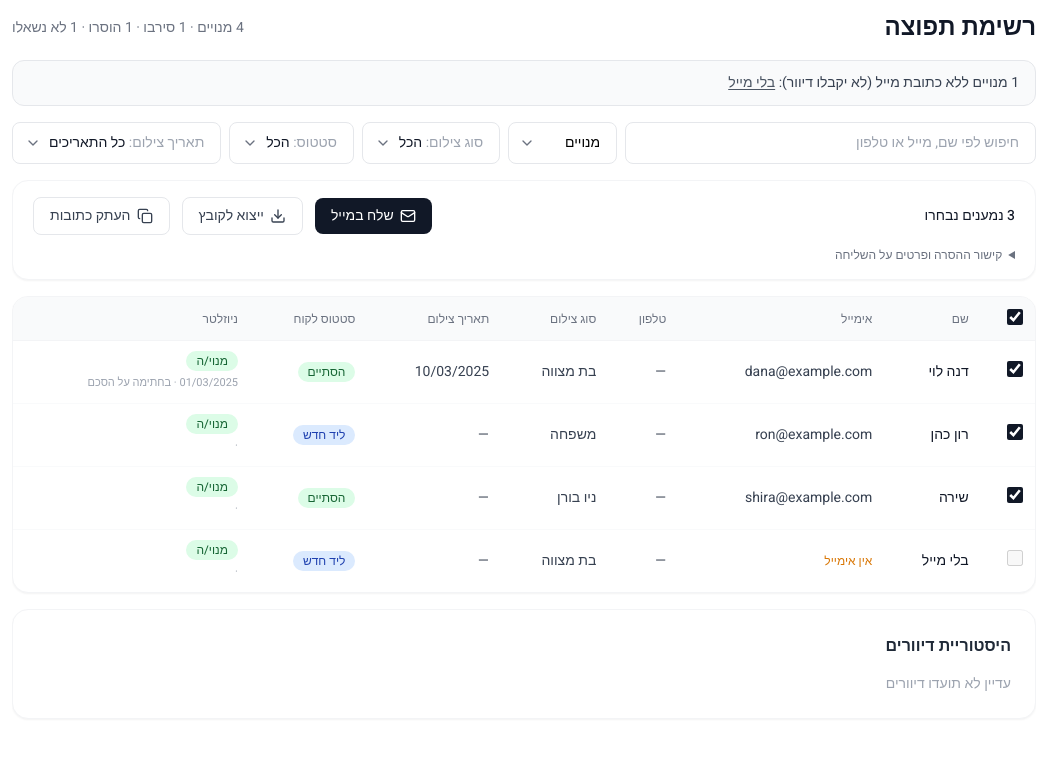
Test: MailingList › separates clients who declined from those who were removed or never asked
This screenshot has width=1048, height=780.
Expected: the text "4 מנויים · 1 סירבו · 1 הוסרו · 1 לא נשאלו" is shown, [12,18,244,38]
Select "סירבו" in the dropdown named "סטטוס ניוזלטר" at (563,143), box [508,122,617,164]
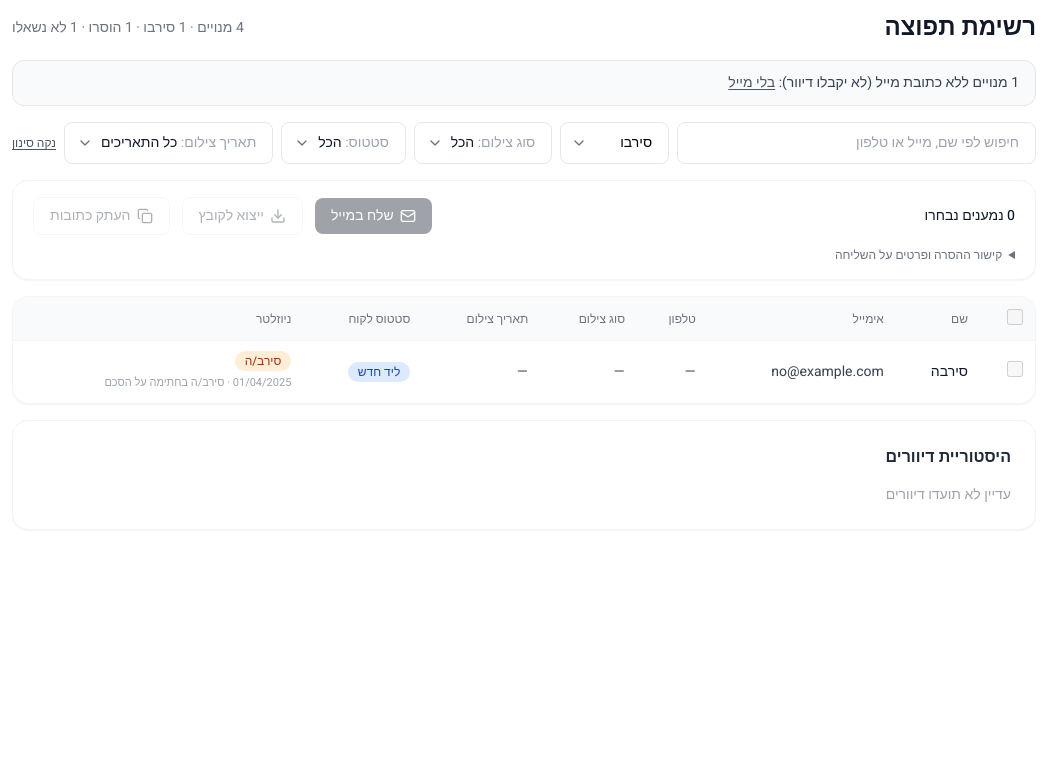
Now the button "סירבה" is shown, box [931,362,968,382]
Select "לא נשאלו" in the dropdown named "סטטוס ניוזלטר" at (615,143), box [560,122,669,164]
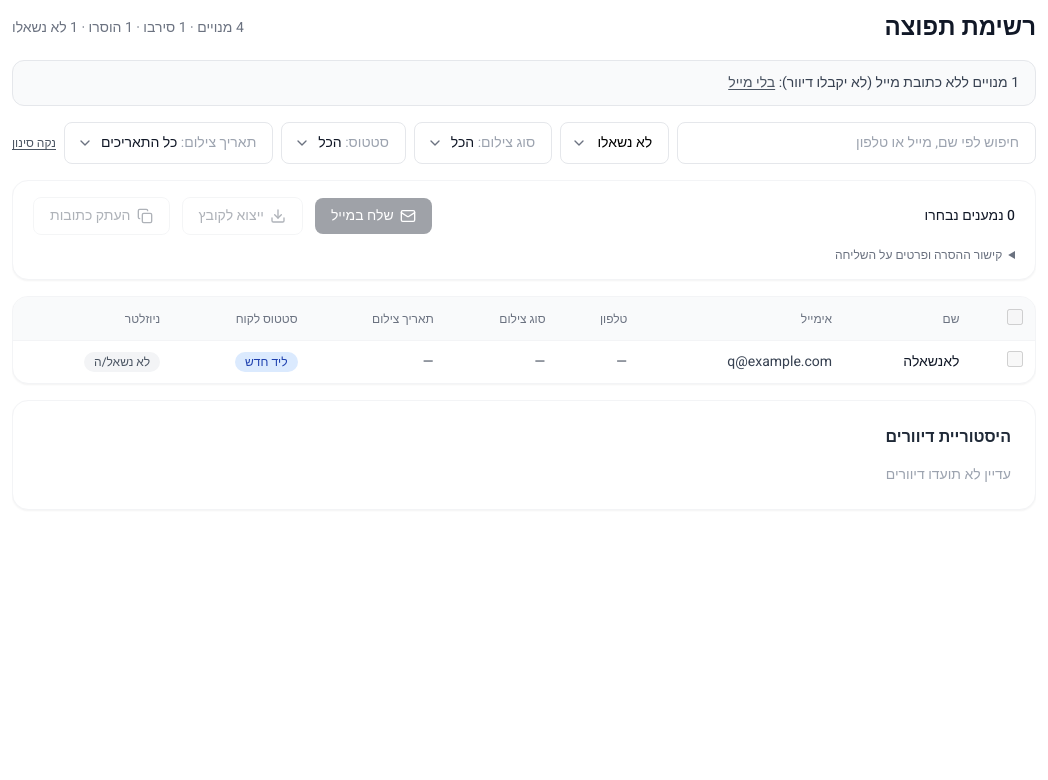
Now the button "לאנשאלה" is shown, box [903,352,959,372]
